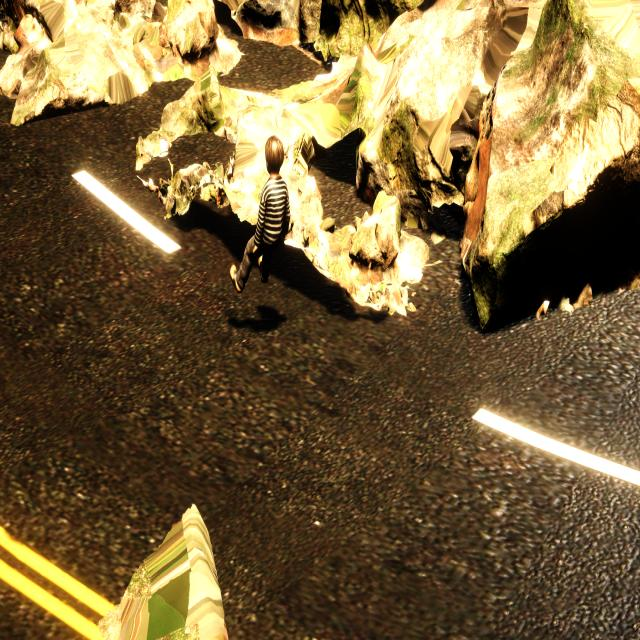Human: (230, 134, 292, 297)
